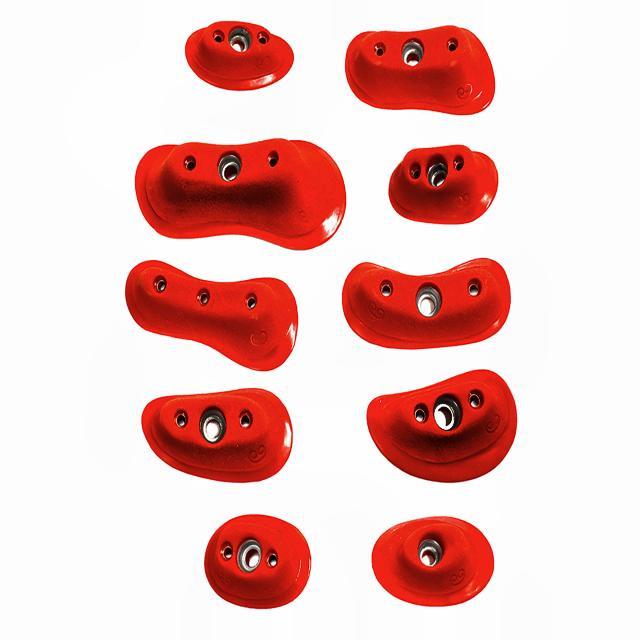Hold: (136, 138, 344, 255), (121, 258, 298, 376), (366, 368, 518, 486), (346, 258, 513, 352), (140, 388, 294, 486), (347, 25, 492, 114), (370, 516, 493, 608), (205, 514, 311, 609), (387, 147, 499, 225), (185, 19, 296, 90)
